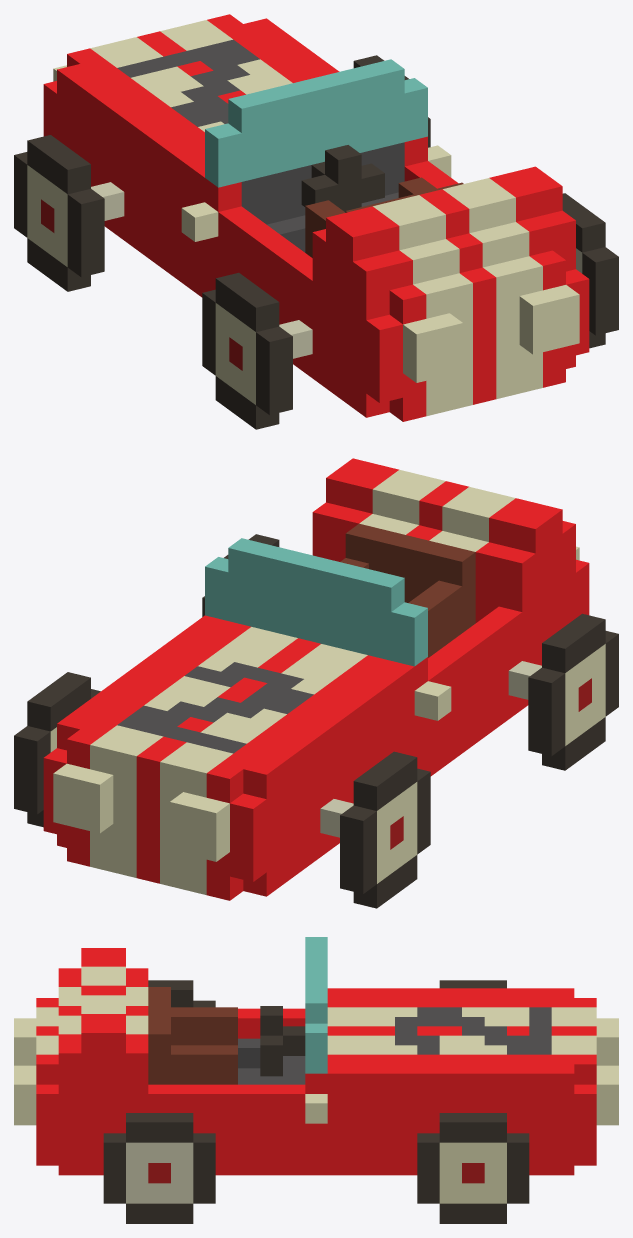
The model's file is soapbox-0.obj.
The picture shows the model from 3 angles, top to bottom: view 1: azimuth 30°, elevation 25°; view 2: azimuth 150°, elevation 25°; view 3: azimuth 270°, elevation 25°; orthographic projection. The views are drawn at different scales.
Bounding box in the file's own units: 1.5 × 0.9 × 2.7.
Materials: 1 (1 with a texture image).
